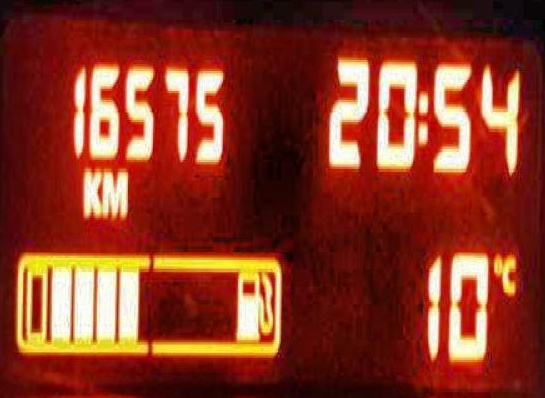0: (447, 248, 488, 364), (374, 57, 415, 171)
1: (424, 251, 440, 362), (71, 64, 85, 159)
2: (325, 55, 369, 168)
4: (479, 62, 519, 175)
5: (431, 62, 470, 173), (123, 64, 154, 162), (193, 66, 223, 164)
6: (88, 62, 119, 160)
7: (163, 64, 189, 164)
X: (100, 166, 127, 215), (81, 164, 100, 217), (416, 86, 429, 146), (500, 253, 515, 297)
